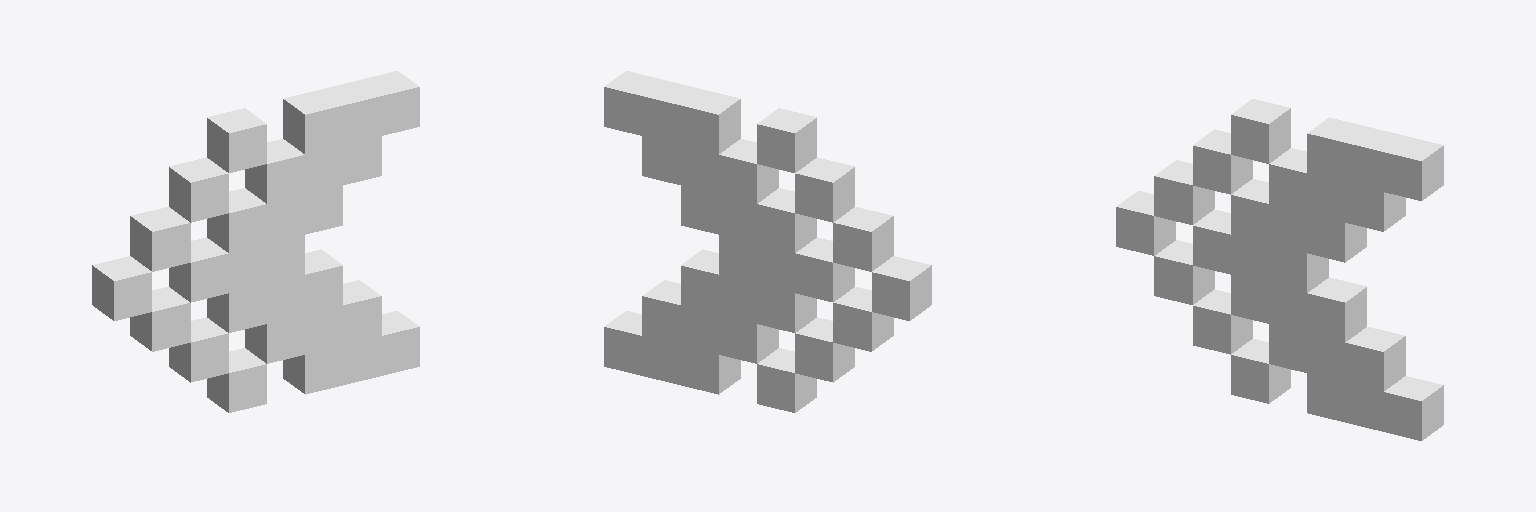
Rendered from leftArrow.obj.
3 renders of one model, left to right at view 1: azimuth 30°, elevation 25°; view 2: azimuth 150°, elevation 25°; view 3: azimuth 330°, elevation 25°, orthographic.
Visible parts, largest first — view 1: object 1; view 2: object 1; view 3: object 1.
Part boxes in pixels (x1,y1,x2,y2): object 1: (92, 71, 419, 412); object 1: (604, 71, 931, 412); object 1: (1116, 99, 1443, 440).
Size of the model in its own units: 0.8 by 0.7 by 0.1.